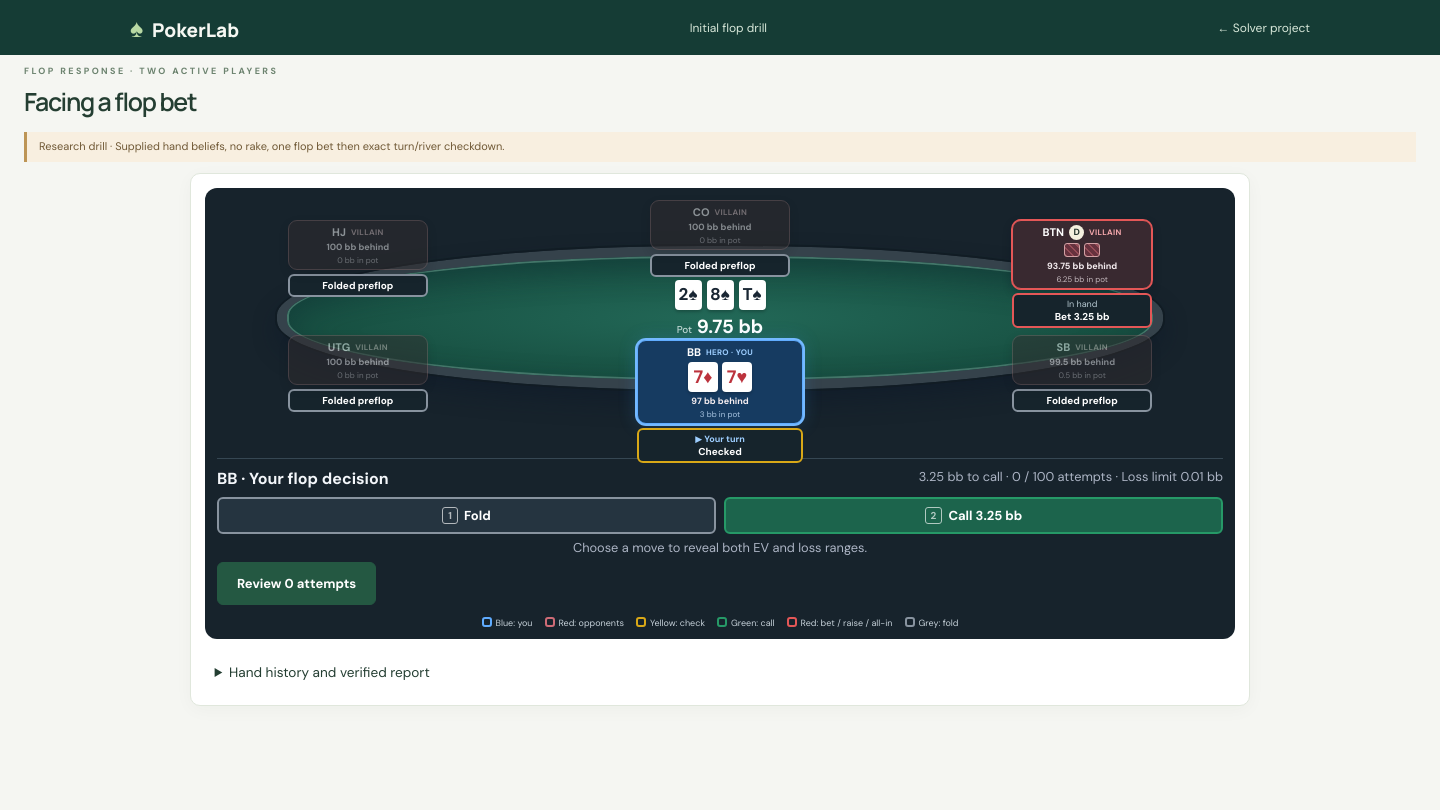
Test: grades Fold with both action ranges, feedback and retry in the table controls
Step 1. Click the button "1 Fold" → (466, 515), box [217,497,716,534]
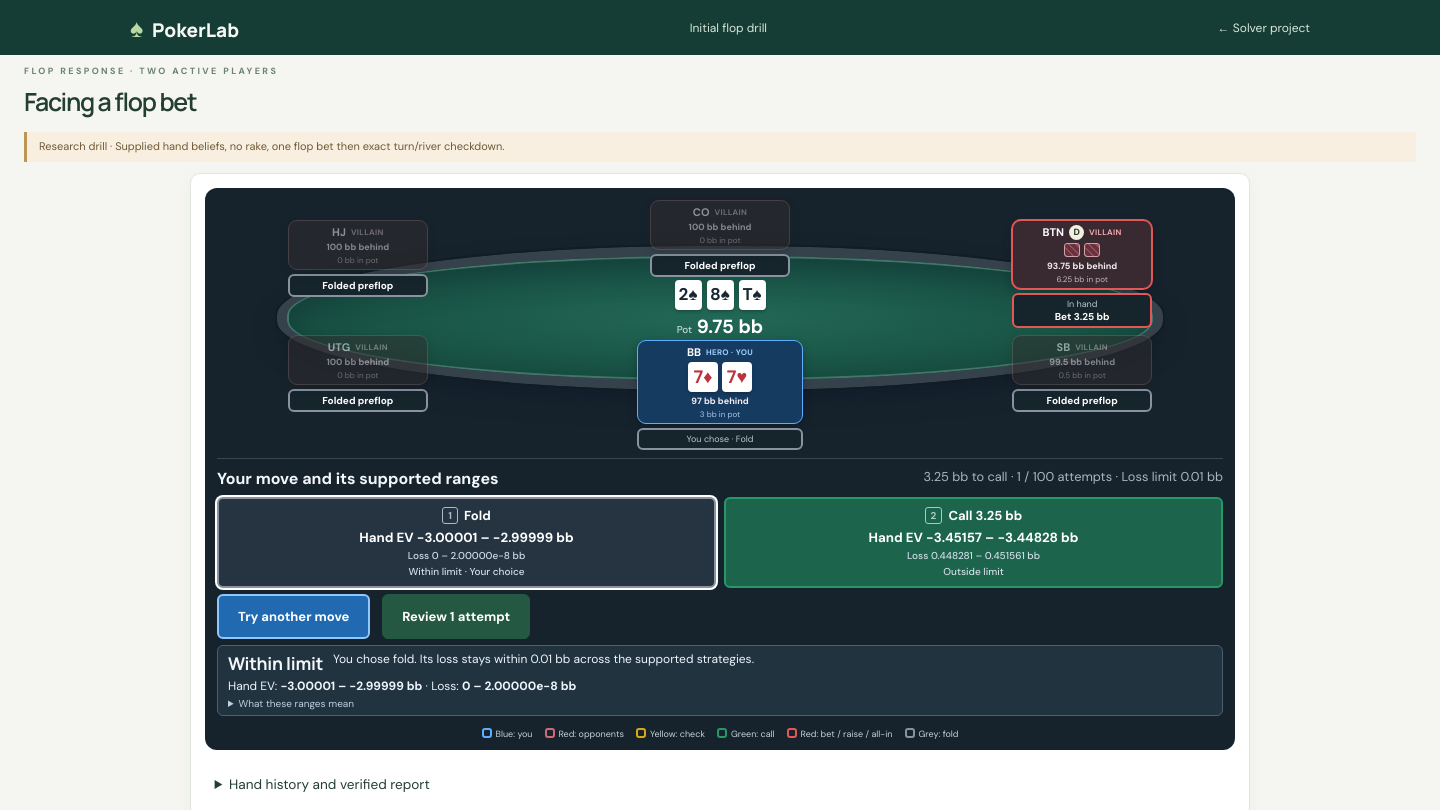
Expected: the heading "Within limit" is shown, [228,651,323,675]
Expected: the button "Fold" shows "Hand EV", [217,497,716,588]
Expected: the button "Fold" shows "Loss", [217,497,716,588]
